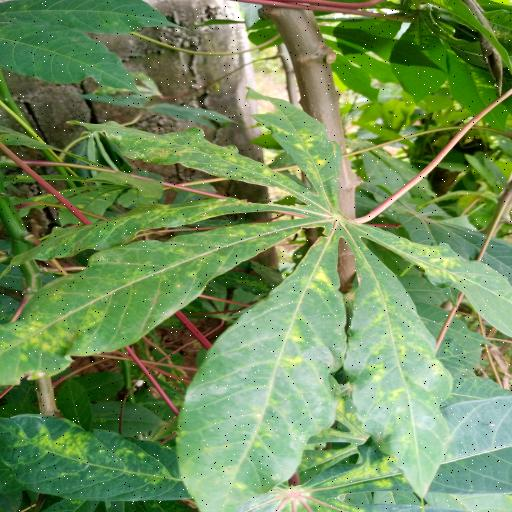Cassava_Mosaic: (5, 109, 512, 497)
